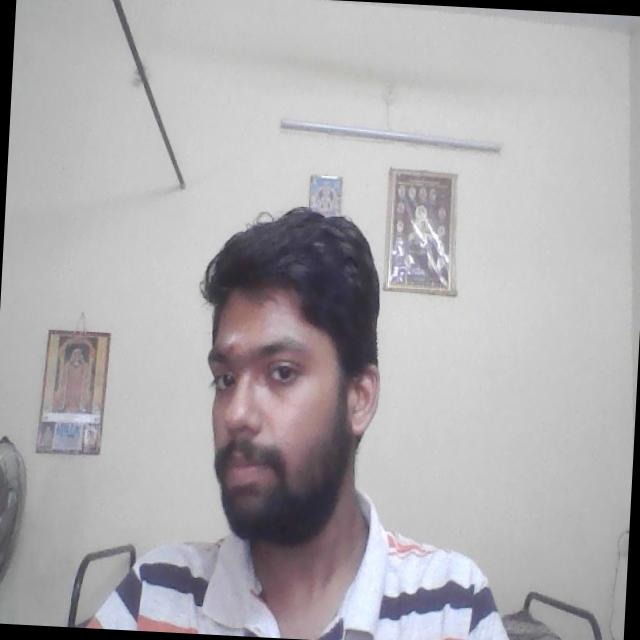Focused: (198, 294, 370, 508)
